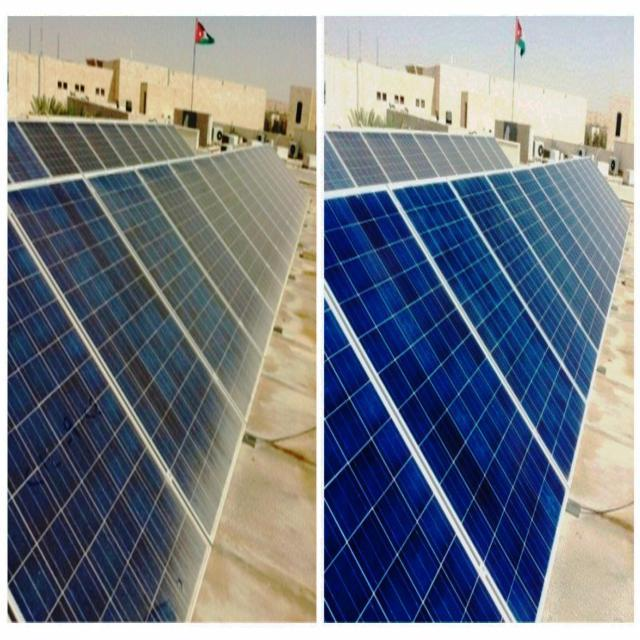faulty: (1, 194, 212, 624), (12, 183, 246, 536), (87, 170, 266, 421), (138, 168, 276, 358), (172, 159, 288, 316)
no faulty: (324, 191, 566, 624), (318, 282, 512, 628), (401, 183, 584, 490), (462, 175, 600, 403)
